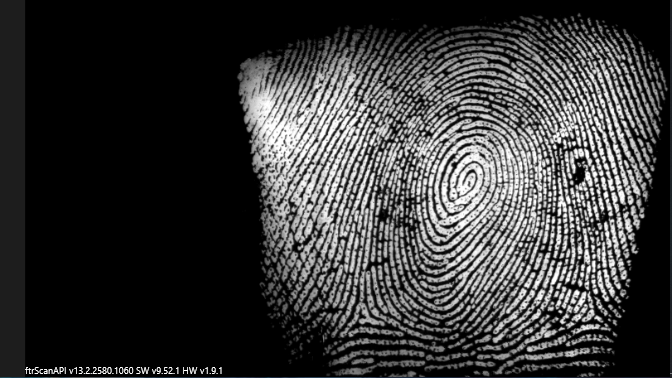nucelo: (452, 154, 484, 206)
verticilo: (343, 302, 383, 330), (572, 304, 608, 328)
